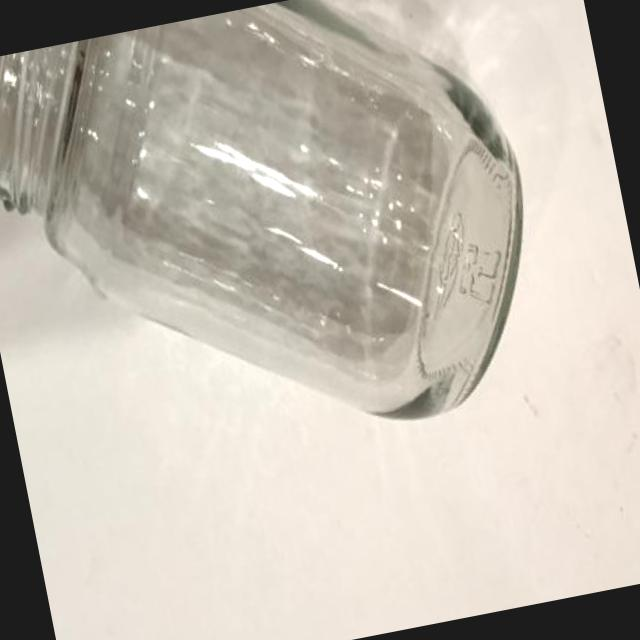chai_thuy_tinh: (0, 0, 526, 421)
